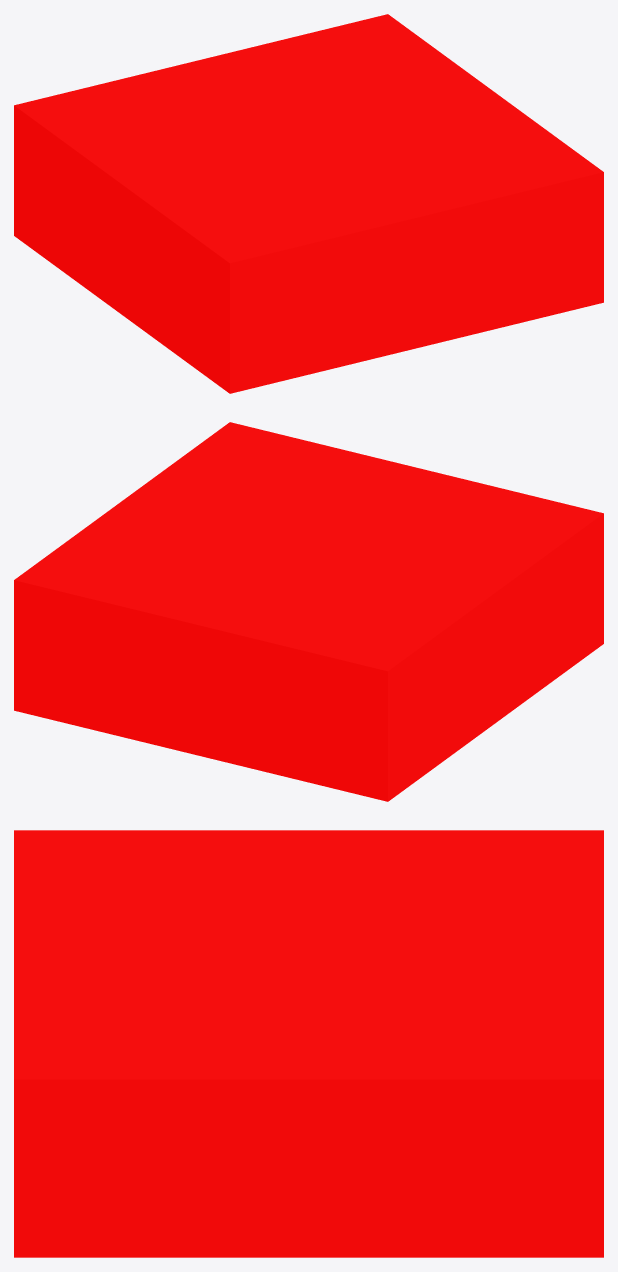
File: Items.fbx_Teleport_Button_6.fbx
3 renders of one model, top to bottom at view 1: azimuth 30°, elevation 25°; view 2: azimuth 150°, elevation 25°; view 3: azimuth 270°, elevation 25°, orthographic. The views are drawn at different scales.
Visible parts, largest first — view 1: Interactable.021; view 2: Interactable.021; view 3: Interactable.021.
Boxes of the visible parts, x1,y1,x2,y2 form: Interactable.021: (14,14,603,393); Interactable.021: (14,422,603,801); Interactable.021: (14,830,603,1257).
Bounding box in the file's own units: 0.12 × 0.04 × 0.12.
